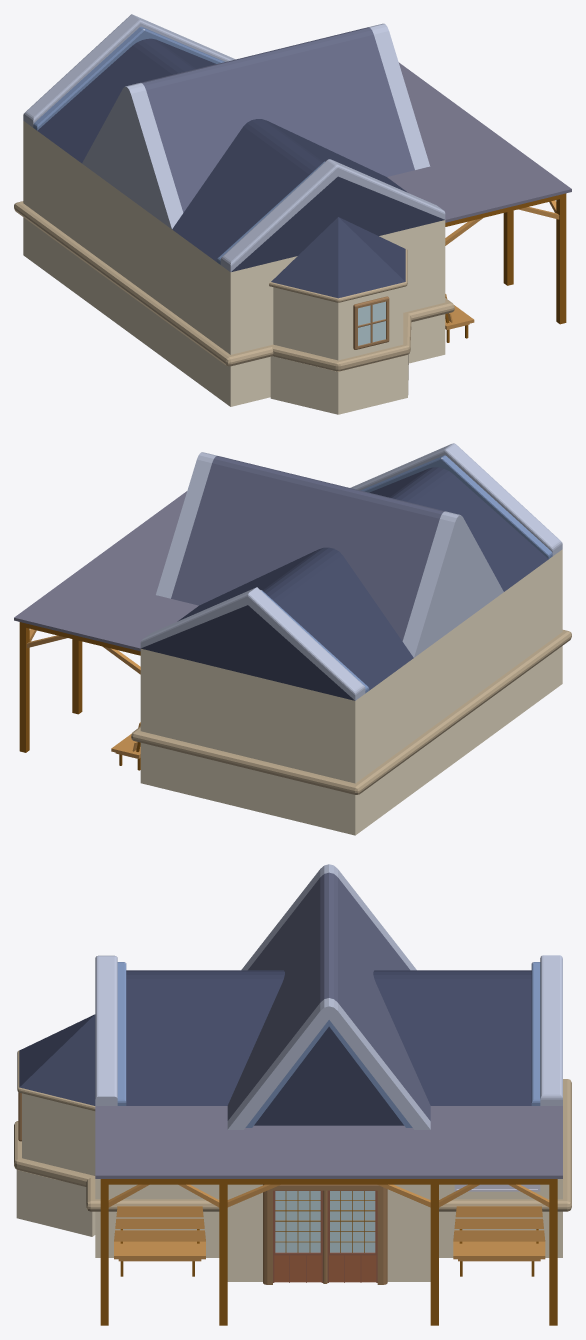
Rendered from exterior_basic.fbx.
3 renders of one model, top to bottom at view 1: azimuth 30°, elevation 25°; view 2: azimuth 150°, elevation 25°; view 3: azimuth 270°, elevation 25°, orthographic. The views are drawn at different scales.
Parts seen in each view (by area): view 1: wall, roof_2, roof_1.001, roof_4, roof_1, wall_2, column_1, roof_3, window_2, window_1, colum_3, column__2; view 2: wall, roof_2, roof_1.001, roof_4, roof_1, wall_2, column_1, roof_3, colum_3, column__2; view 3: roof_1.001, roof_2, roof_1, wall, roof_4, bench_1, door_2, column_1, wall_2, door_4, bench_2, door_1 (+4 smaller).
Part boxes in pixels (<box>): wall: <box>23,121,445,414</box>; roof_2: <box>82,23,430,228</box>; roof_1.001: <box>37,38,407,298</box>; roof_4: <box>23,14,445,272</box>; roof_1: <box>387,62,571,222</box>; wall_2: <box>14,201,454,371</box>; column_1: <box>503,193,566,324</box>; roof_3: <box>33,26,324,264</box>; window_2: <box>358,301,385,345</box>; window_1: <box>353,296,389,349</box>; colum_3: <box>445,195,559,226</box>; column__2: <box>445,200,559,245</box>; wall: <box>140,549,562,835</box>; roof_2: <box>156,452,503,657</box>; roof_1.001: <box>177,467,548,690</box>; roof_4: <box>140,443,562,700</box>; roof_1: <box>14,491,198,651</box>; wall_2: <box>131,630,571,794</box>; column_1: <box>19,622,82,752</box>; roof_3: <box>261,455,552,693</box>; colum_3: <box>26,623,140,655</box>; column__2: <box>26,629,140,674</box>; roof_1.001: <box>19,970,531,1105</box>; roof_2: <box>227,864,430,1129</box>; roof_1: <box>95,1106,562,1178</box>; wall: <box>16,1093,562,1281</box>; roof_4: <box>95,955,562,1105</box>; bench_1: <box>114,1206,545,1241</box>; door_2: <box>275,1191,375,1252</box>; column_1: <box>100,1179,557,1325</box>; wall_2: <box>14,1050,571,1211</box>; door_4: <box>273,1190,377,1282</box>; bench_2: <box>114,1241,545,1261</box>; door_1: <box>263,1184,387,1284</box>.
Bounding box in the file's own units: 1499 × 1004 × 1843.
